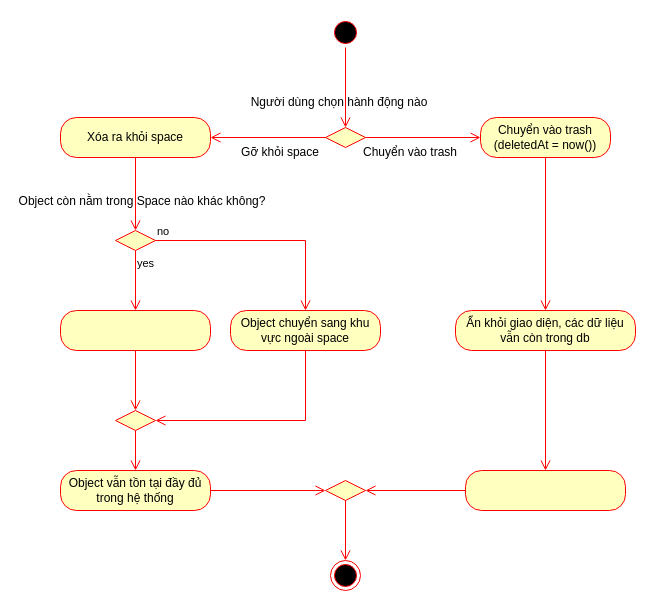
The diagram is 653 pixels wide and 608 high, and some of its shapes have lost their labels. Each missing label, with the box of its shape:
Hiển thị trong khu vực Trash: (464, 470, 626, 510)
Object vẫn hiện ở các Space khác: (60, 310, 210, 350)
